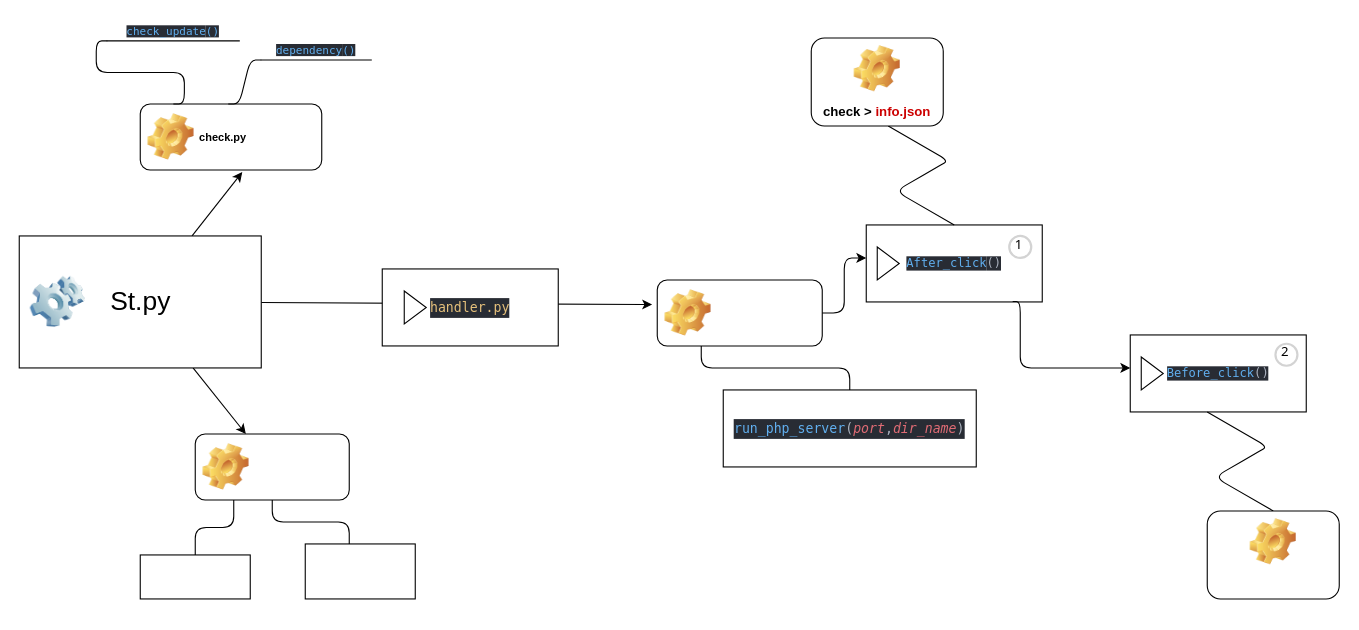
Image size: 1359x630. Some labels were removed from this diagram. The centre of each missing label's shape, as x and y in pixels:
"banner()" goes at pixel 194 576.
"check: result.json" goes at pixel 1272 554.
"localhost.py" goes at pixel 739 312.
"show_menu ()" goes at pixel 359 571.
